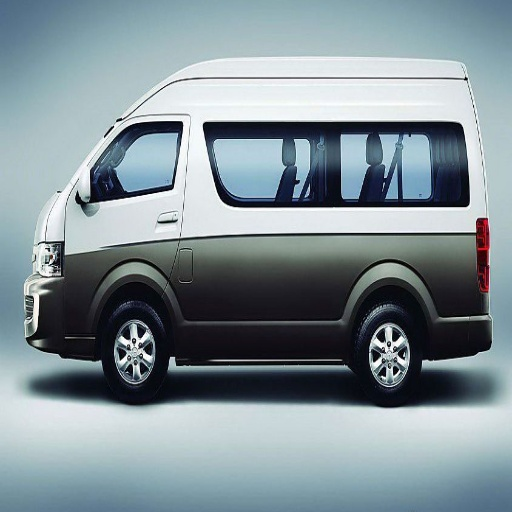trunk: (236, 214, 490, 351), (35, 260, 112, 339)
